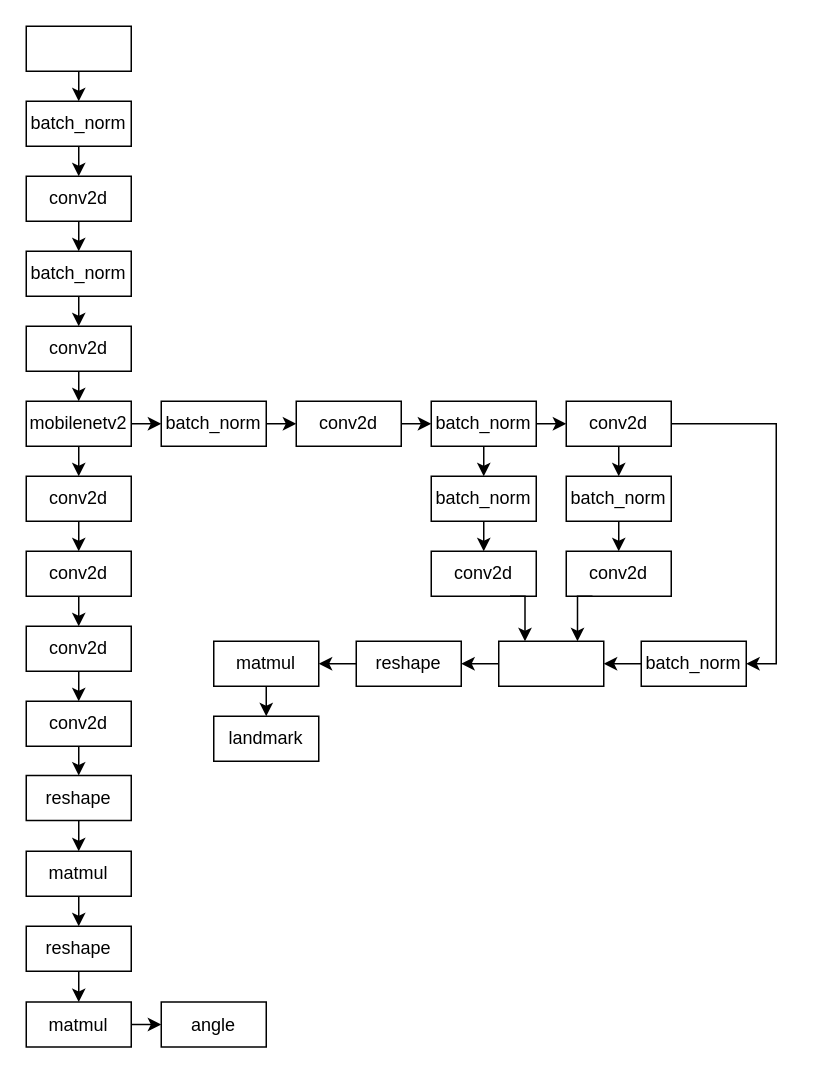
This 815x1074 diagram has some shape labels left out. The shapes that lost their labels are listed below. From the top down, each one's centre as x and y in pixels, then its label:
At point 78,48: "input".
At point 550,663: "concat".
